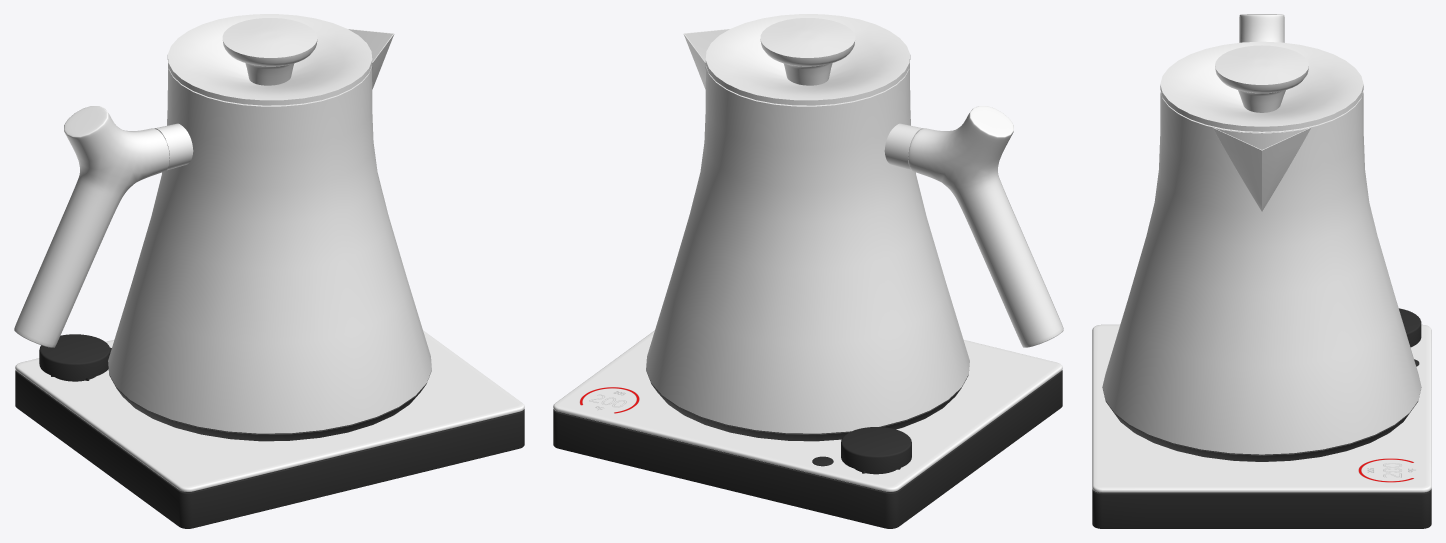
File: ketil-tahta-kulplu.glb
3 renders of one model, left to right at view 1: azimuth 30°, elevation 25°; view 2: azimuth 150°, elevation 25°; view 3: azimuth 270°, elevation 25°, orthographic.
Parts seen in each view (by area): view 1: Fellow kettle info degrees; view 2: Fellow kettle info degrees; view 3: Fellow kettle info degrees.
Part boxes in pixels (box(x1,y1,x2,y2)): Fellow kettle info degrees: box(14, 14, 524, 528); Fellow kettle info degrees: box(553, 14, 1063, 528); Fellow kettle info degrees: box(1092, 14, 1431, 528).
Size of the model in its own units: 0.2417 by 0.215 by 0.17.
Materials: 7 (1 with a texture image).
